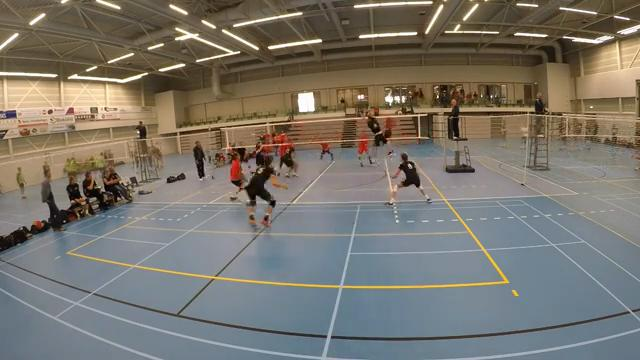Block: (358, 106, 395, 167)
Player: (245, 158, 287, 226), (387, 153, 430, 204), (230, 153, 244, 201), (278, 131, 291, 175), (357, 132, 372, 166), (281, 147, 297, 177), (255, 141, 267, 166), (320, 142, 333, 160)
